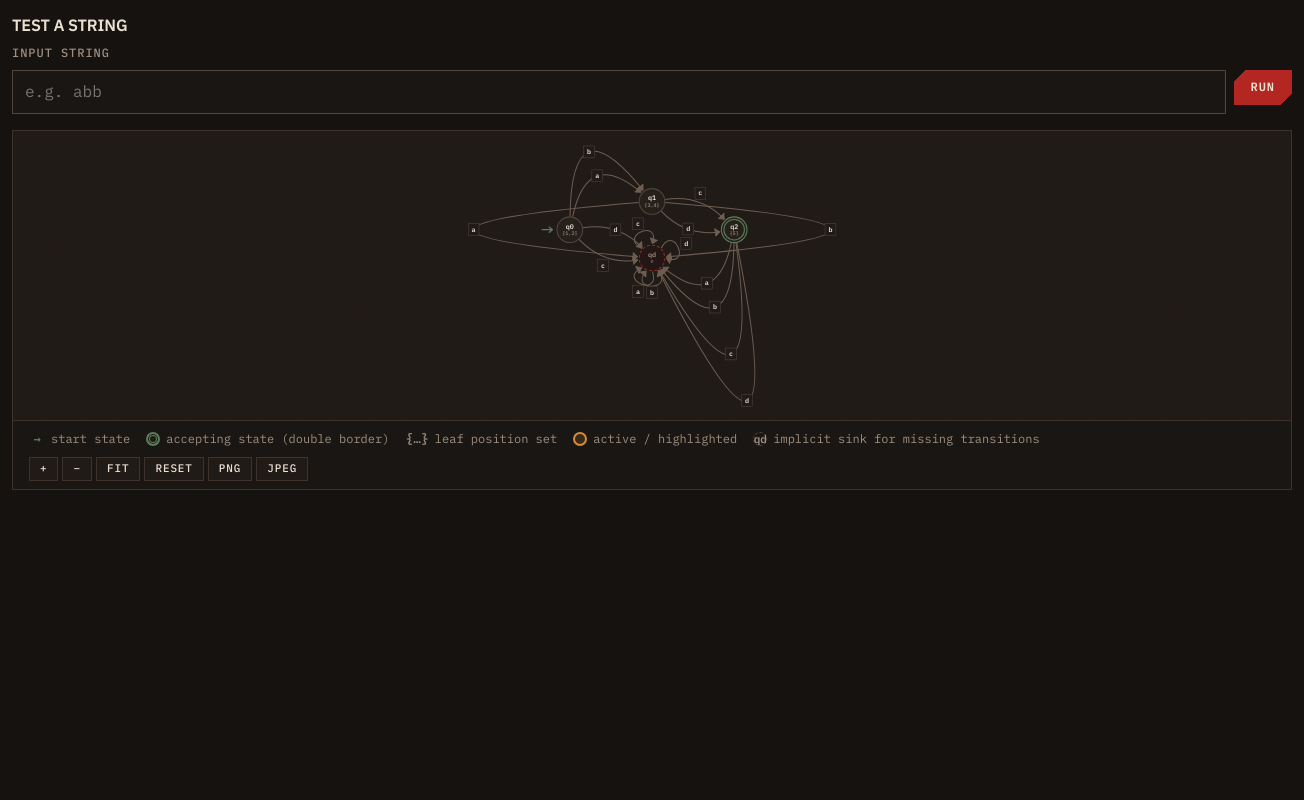
Test: <StringSimulator /> › routes missing transitions to dead state (qd) and auto-plays multi-step strings
This screenshot has width=1304, height=800.
'ab' is rejected at step 2 because q1 has no transition on 'b'
Step 1. Type "ab" into the field labelled "Input string" → (619, 92), box [12, 70, 1226, 114]
Then press Enter
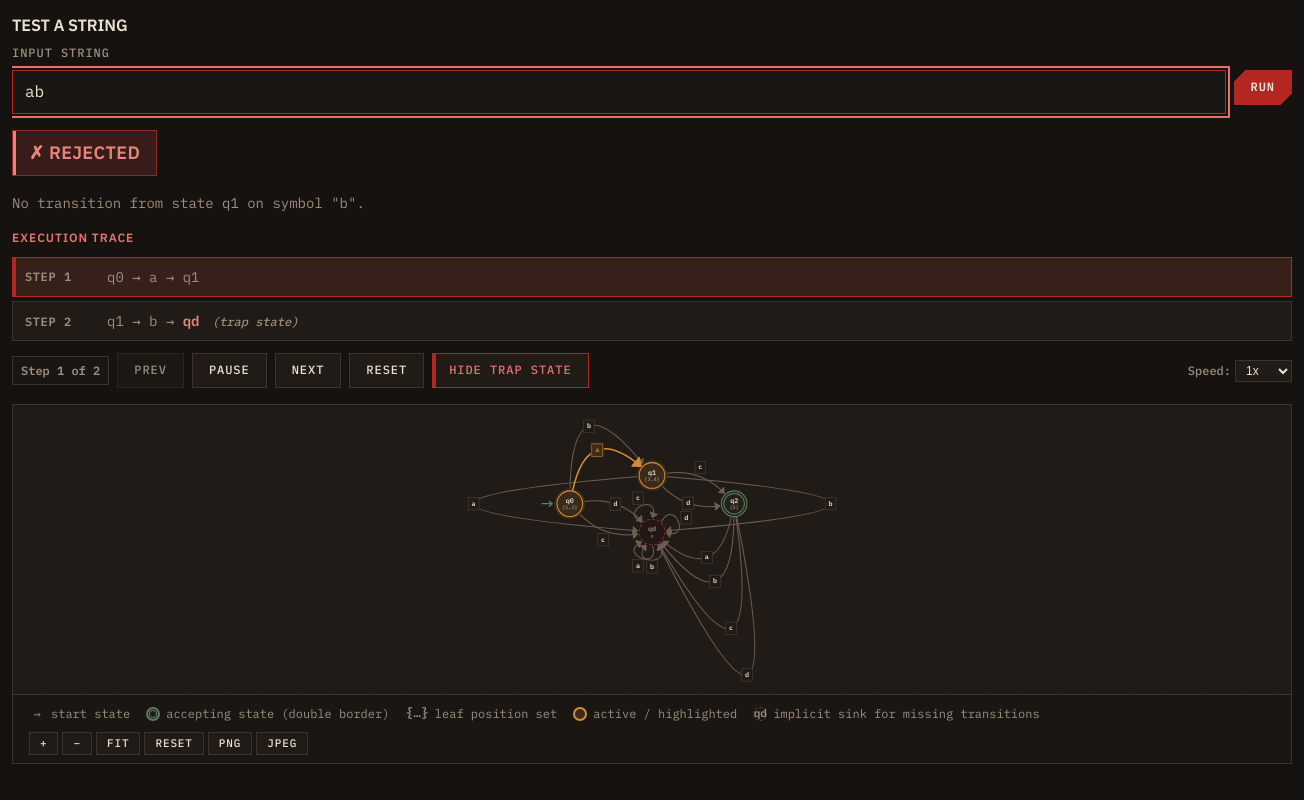
Expected: the message shows "REJECTED", [29, 141, 140, 164]
Expected: the text "(trap state)" is shown, [212, 314, 298, 329]
Expected: the text "qd (trap state)" is shown, [183, 312, 298, 330]
Clicking on step 1 in the trace jumps directly to step 1
Step 2. Click the list item titled "jump to step 1" → (652, 277), box [12, 257, 1292, 297]
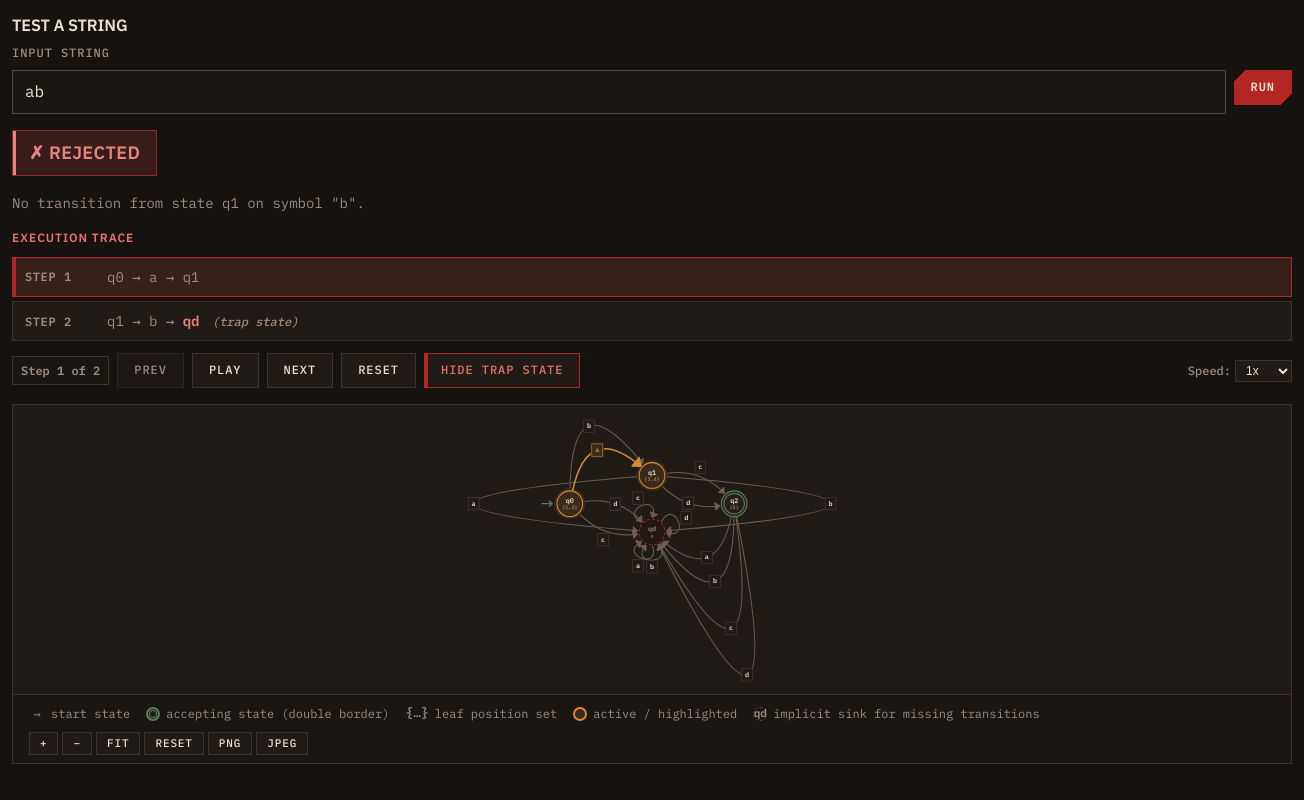
Toggle trap state off
Step 3. Click the button "Hide Trap State" → (502, 371), box [424, 353, 580, 388]
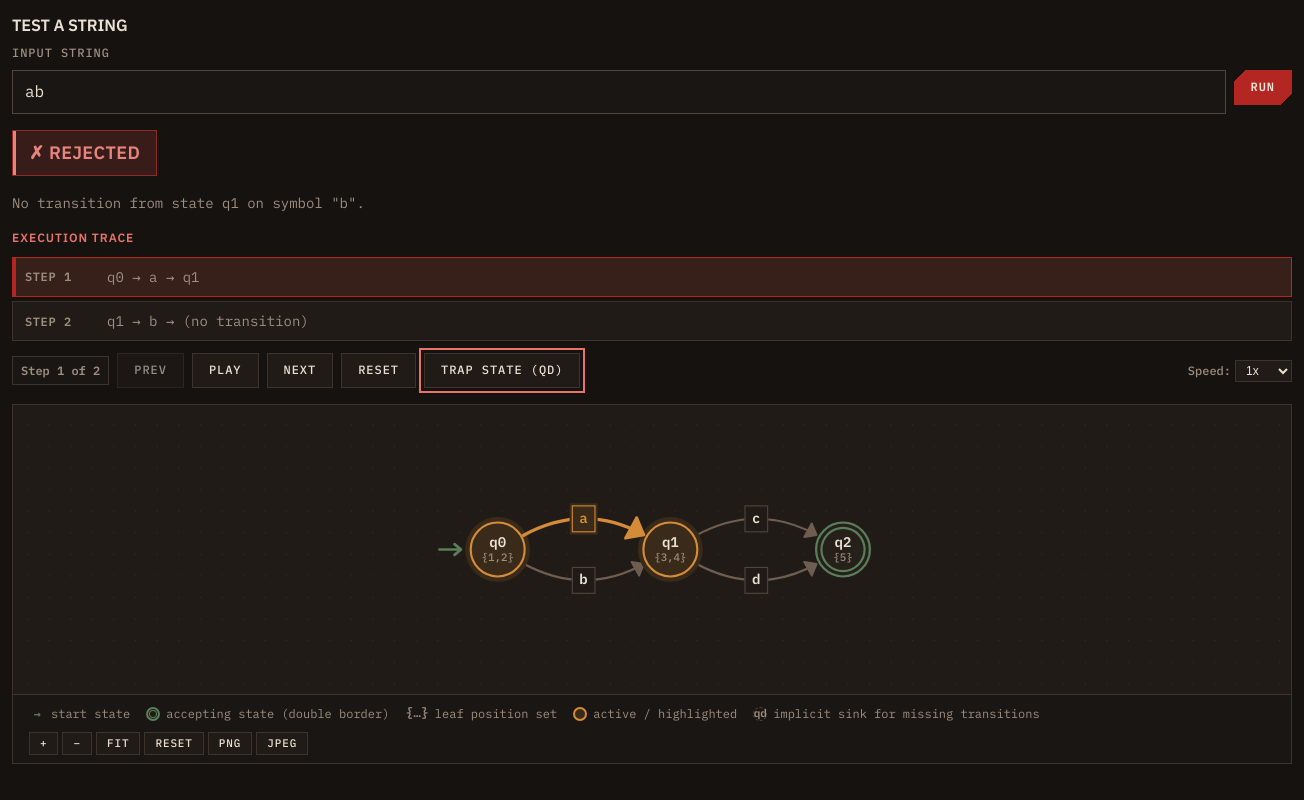
Expected: the text "q1 → b → (no transition)" is shown, [107, 312, 309, 330]
